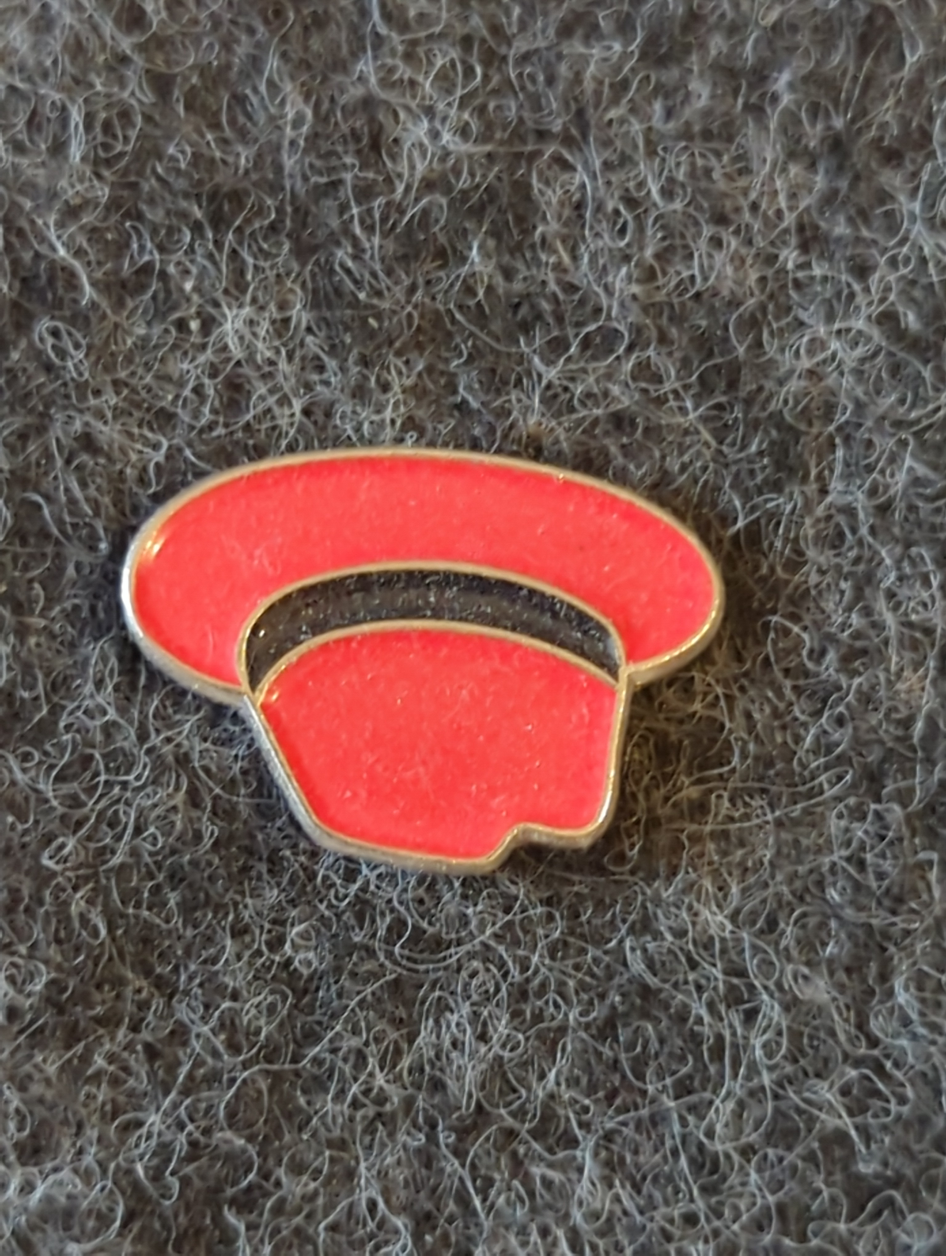Red-Hat: (41, 378, 878, 953)
